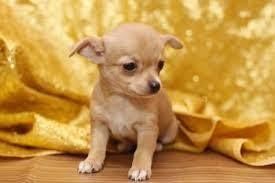chihuahua: (52, 15, 202, 178)
